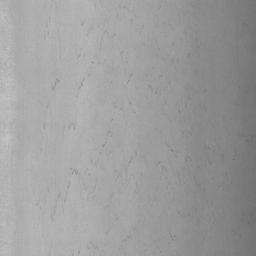Silk spot: (245, 135, 256, 144)
